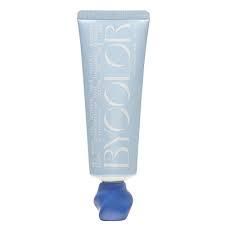toothpaste: (70, 4, 151, 188)
